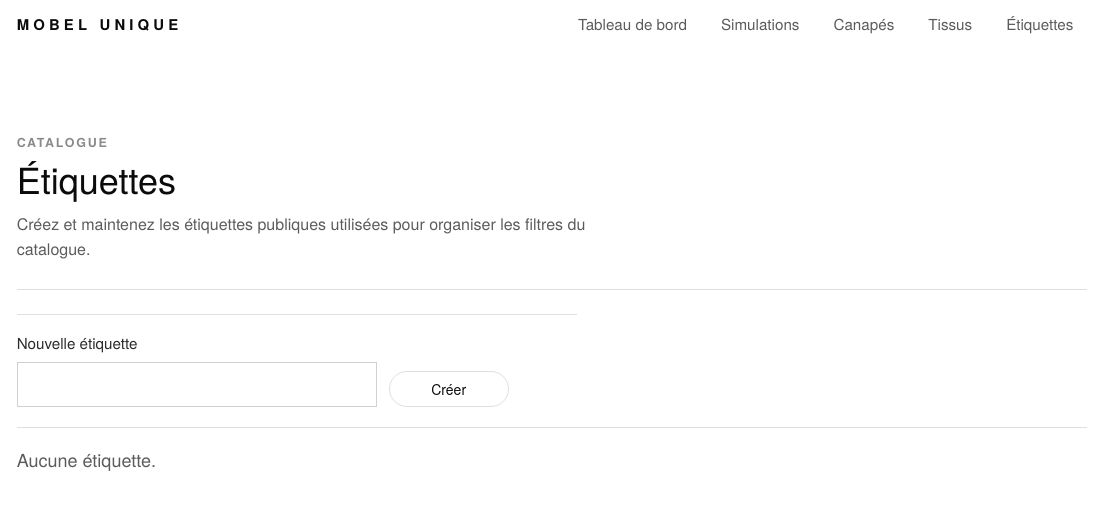
Test case: Admin catalog pages › shows a newly created tag immediately when the list reload is stale
Expected: the text "Aucune étiquette." is shown, [17, 427, 1087, 475]
Type "Angle premium" into the field labelled "Nouvelle étiquette" at x=197, y=385, box [17, 362, 377, 407]
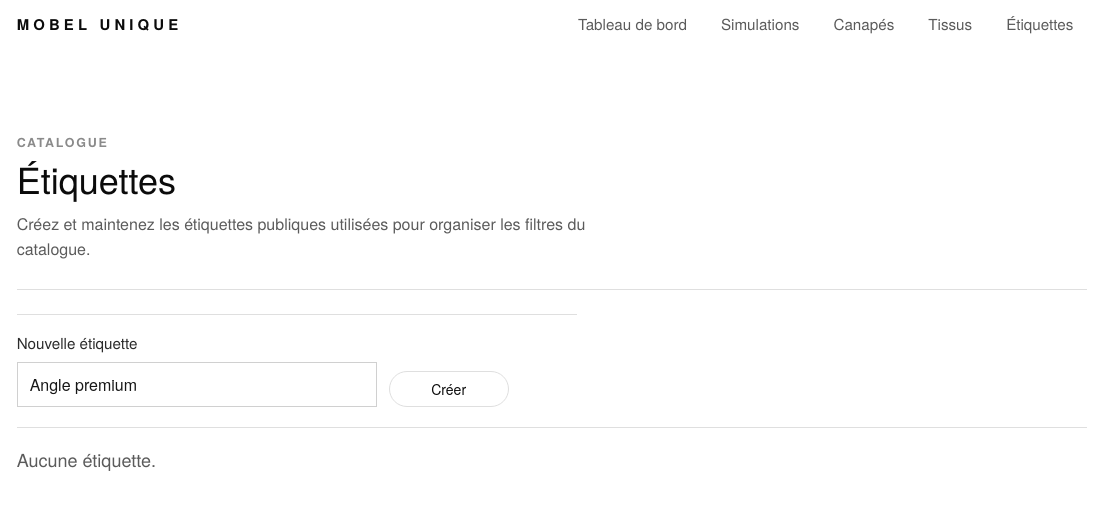
Click the button with aria-label "Créer l'étiquette" at x=449, y=389, box [389, 371, 509, 407]
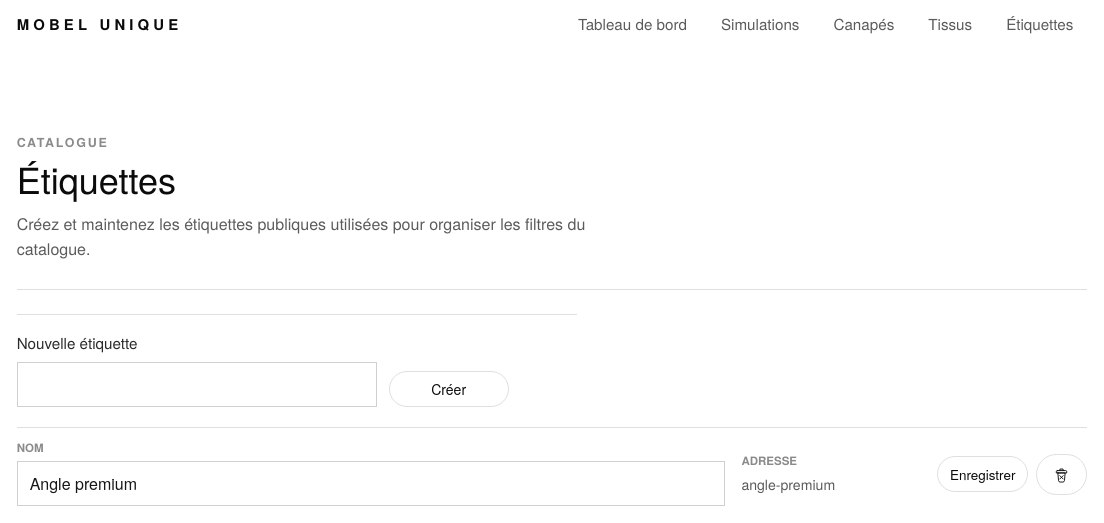
Expected: the field named "Nom de l'étiquette Angle premium" is shown, [17, 461, 725, 506]
Expected: the element labelled "Adresse angle-premium" is shown, [741, 452, 835, 494]
